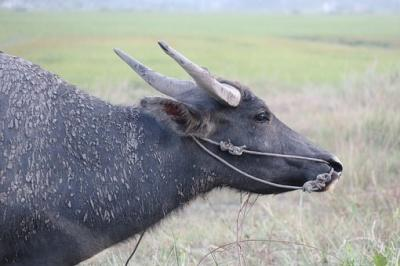buffalo: (0, 41, 342, 265)
